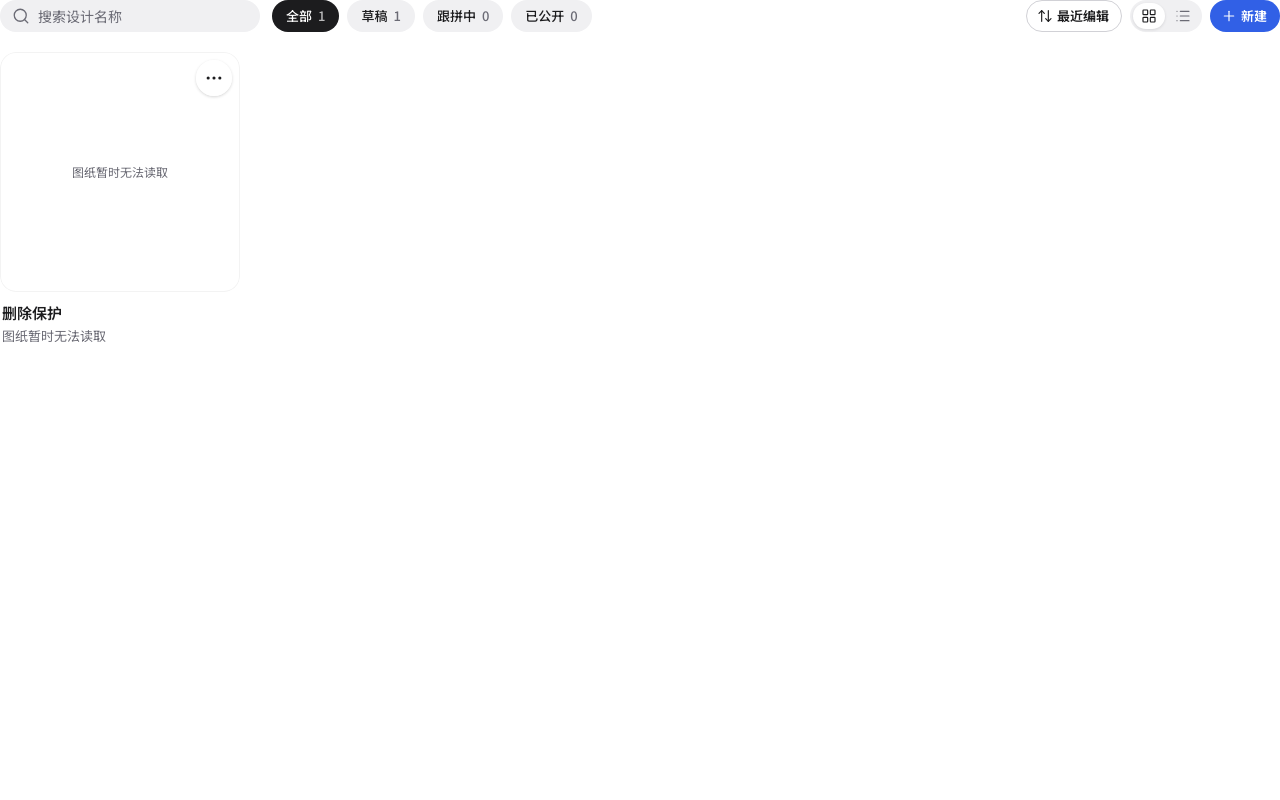
Test: 我的 · 设计 › 删除：危险确认，失败留在弹窗可重试，连续点击只发一次
Click the button named "「删除保护」的更多操作" at (214, 78), box [196,60,232,96]
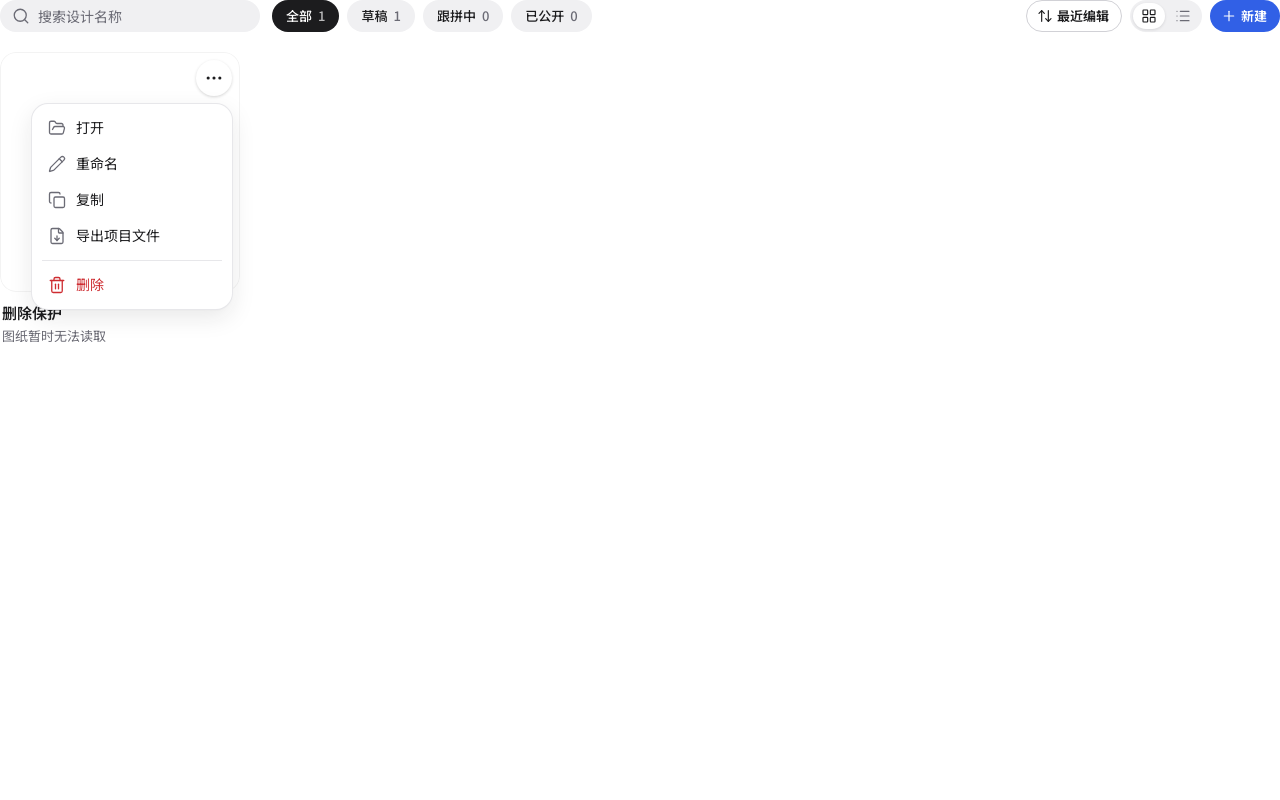
Click the menu item "删除" at (76, 285), box [48,276,104,294]
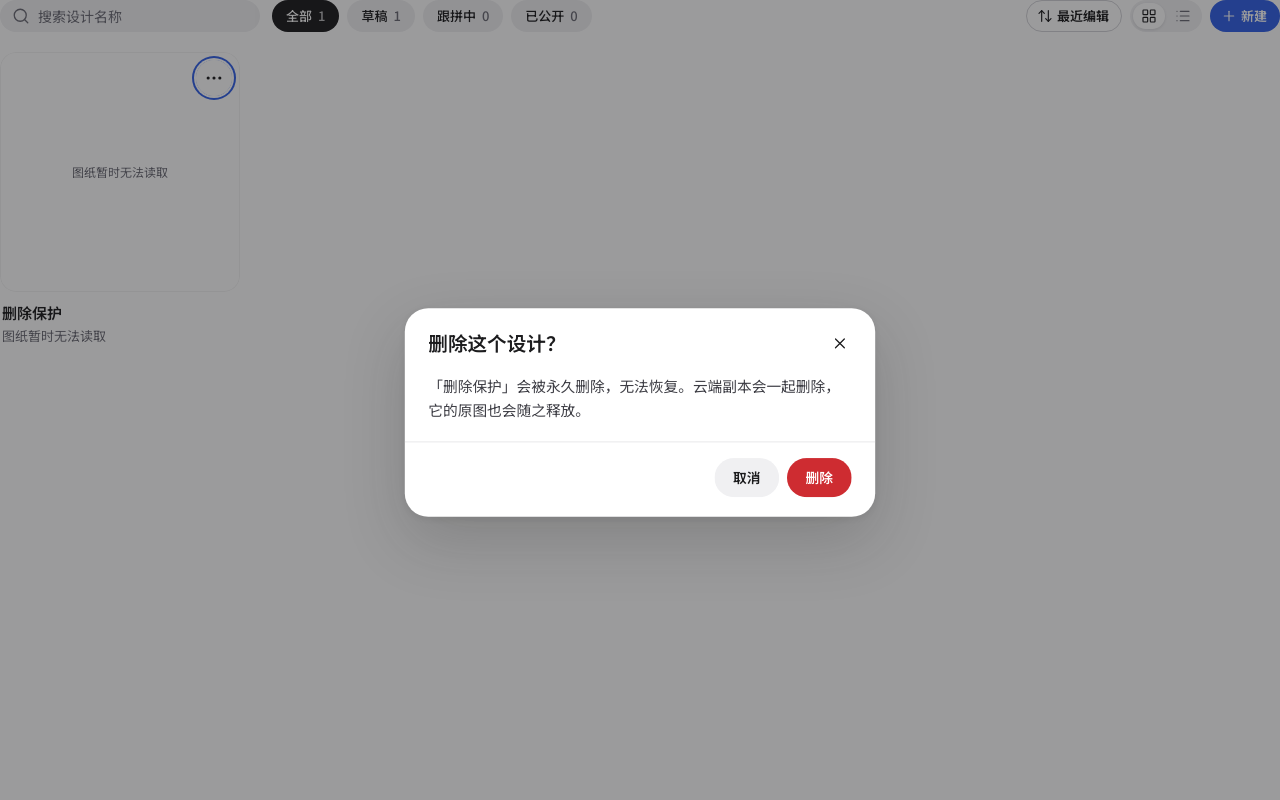
Now the dialog "删除这个设计？" shows "云端副本会一起删除", box [428,377,840,418]
Click the button "删除" at (819, 477), box [787,458,852,497]
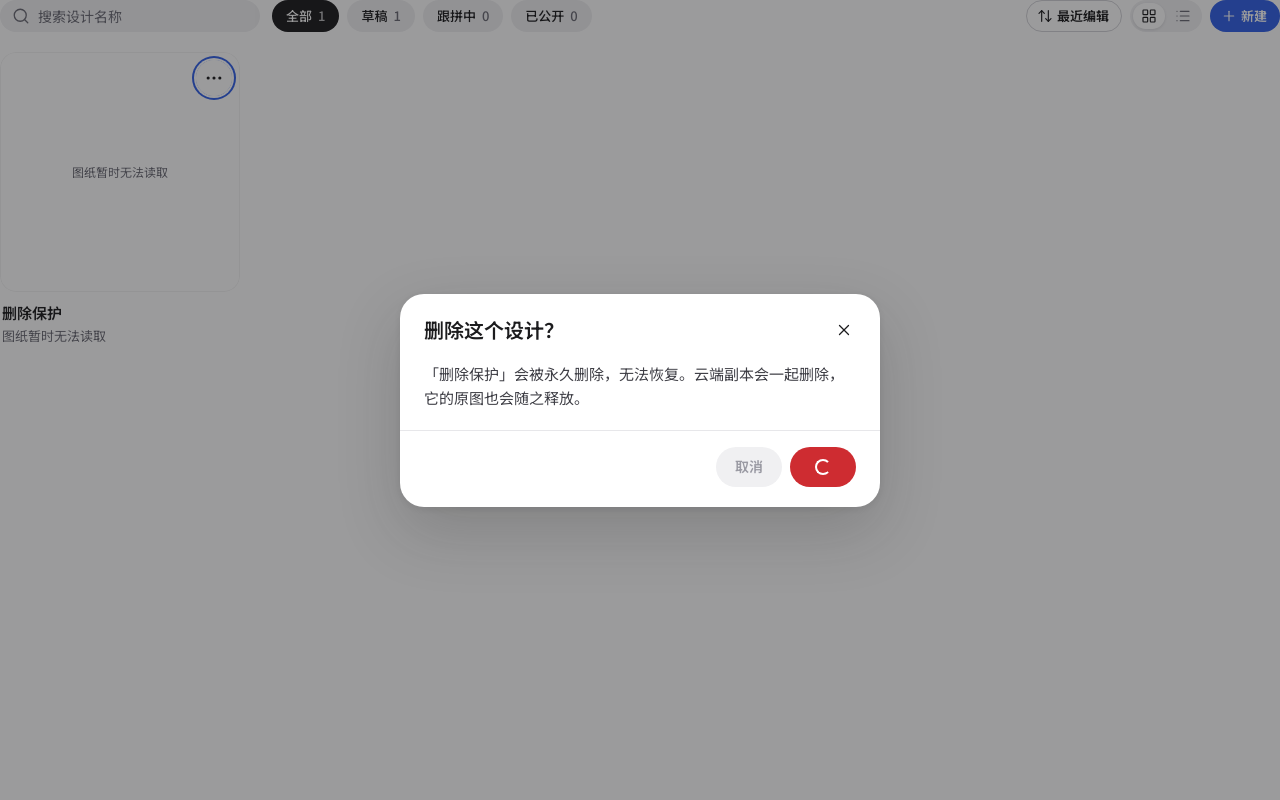
Click the button "删除" at (823, 466), box [790,446,856,486]
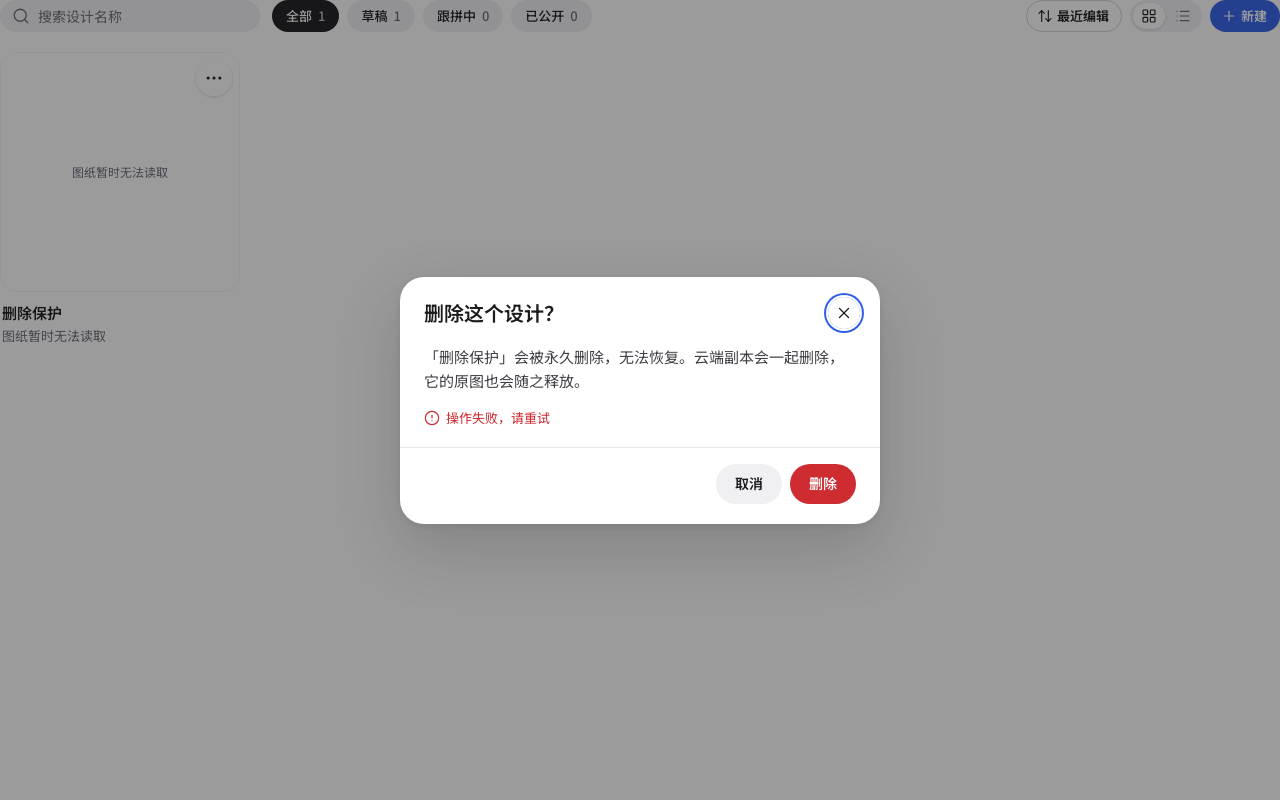
Now the message reads "操作失败，请重试", box [446,410,550,426]
Click the button "删除" at (823, 484), box [790,464,856,504]
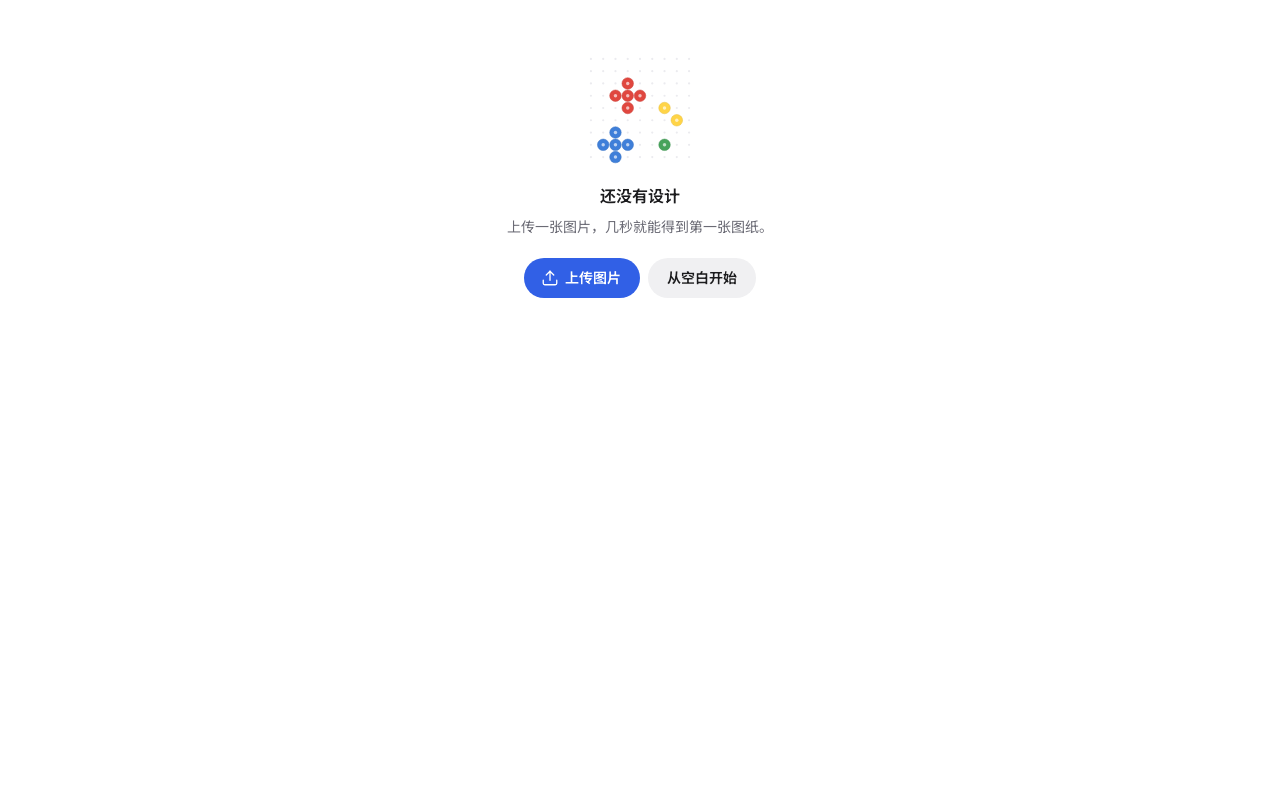
Now the heading "删除保护" is gone
